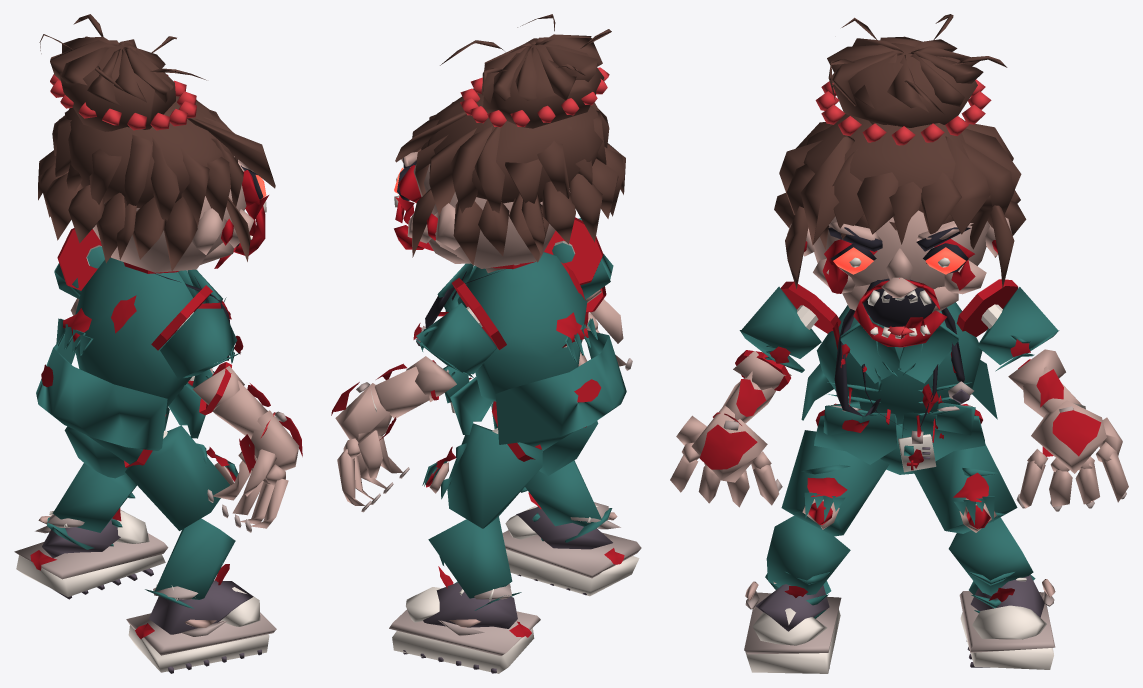
3 views of the same model, side by side, from view 1: azimuth 30°, elevation 25°; view 2: azimuth 150°, elevation 25°; view 3: azimuth 270°, elevation 25° (orthographic). The views are drawn at different scales.
Parts seen in each view (by area): view 1: head, torso, footR, footL, legR, handR, armR, shinR, shinL, foreArmR, stump_armL, legL (+4 smaller); view 2: head, torso, footL, footR, legL, handL, shinL, armL, shinR, foreArmL, stump_armR, legR (+3 smaller); view 3: head, torso, handL, footR, footL, legR, handR, legL, shinR, armR, armL, shinL (+4 smaller).
Part boxes in pixels (x1,y1,x2,y2): head: (38, 14, 275, 273); torso: (36, 257, 231, 450); footR: (126, 580, 276, 673); footL: (14, 510, 168, 599); legR: (125, 425, 238, 530); handR: (207, 410, 302, 532); armR: (160, 308, 244, 409); shinR: (145, 518, 235, 608); shinL: (47, 463, 136, 549); foreArmR: (212, 380, 286, 439); stump_armL: (57, 228, 110, 290); legL: (64, 426, 126, 478); head: (394, 14, 625, 273); torso: (416, 252, 626, 444); footL: (389, 582, 540, 673); footR: (502, 502, 641, 596); legL: (422, 423, 542, 528); handL: (331, 382, 409, 512); shinL: (428, 516, 521, 610); armL: (406, 303, 497, 401); shinR: (520, 460, 612, 542); foreArmL: (356, 363, 429, 418); stump_armR: (544, 217, 603, 285); legR: (539, 421, 598, 475); head: (774, 14, 1026, 347); torso: (801, 302, 997, 472); handL: (1016, 400, 1128, 511); footR: (744, 581, 841, 673); footL: (959, 575, 1055, 669); legR: (781, 430, 889, 536); handR: (670, 405, 782, 507); legL: (913, 444, 1017, 533); shinR: (765, 515, 850, 618); armR: (733, 286, 821, 390); armL: (977, 287, 1065, 389); shinL: (948, 517, 1035, 612).
Bounding box in the file's own units: 0.6871 × 1.8 × 1.26.
